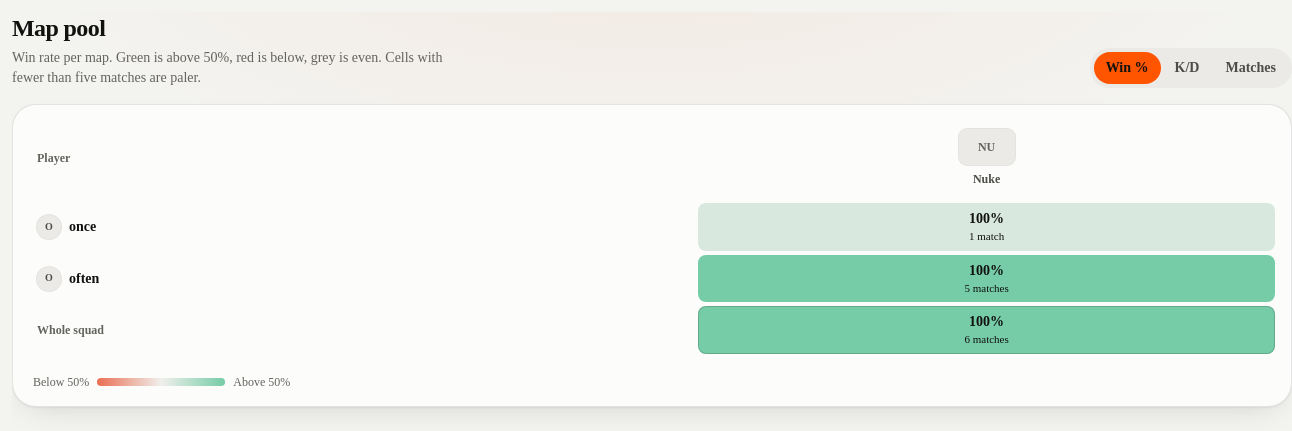
Scenario: MapPool › switches to K/D and to the number of matches
Click the radio button labelled "K/D" at (1187, 68), box [1175, 60, 1200, 75]
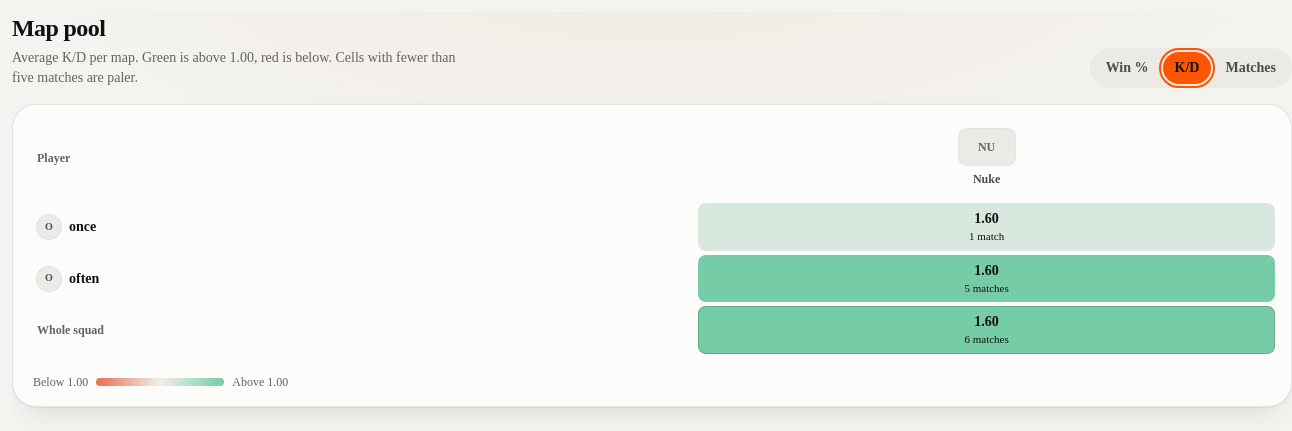
Expected: the cell "1.60 5 matches" is shown, [698, 255, 1275, 302]
Expected: the text "Above 1.00" is shown, [232, 374, 288, 390]
Click the radio button labelled "Matches" at (1251, 68), box [1226, 60, 1276, 75]
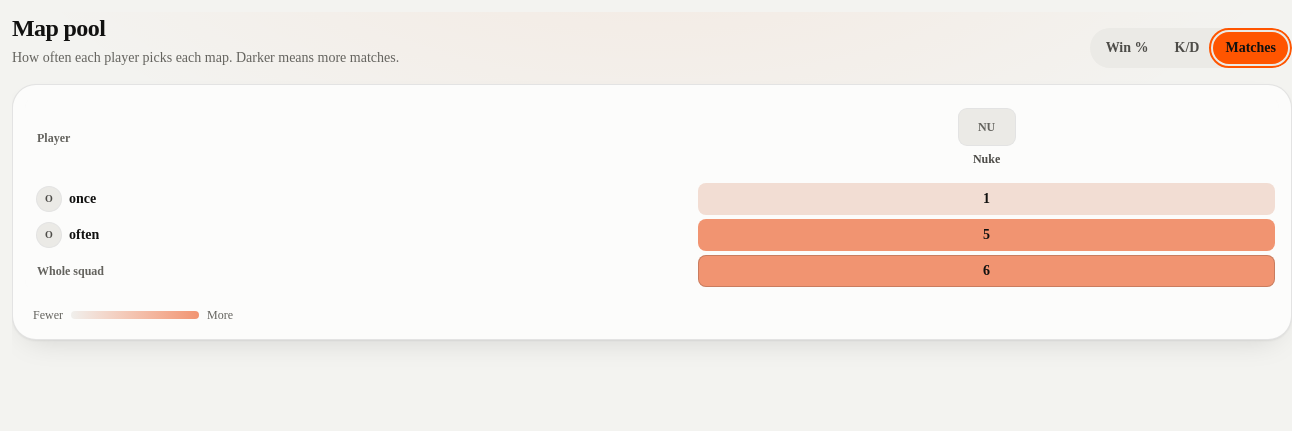
Expected: the cell "5" is shown, [698, 219, 1275, 251]
Expected: the text "More" is shown, [207, 307, 233, 323]
